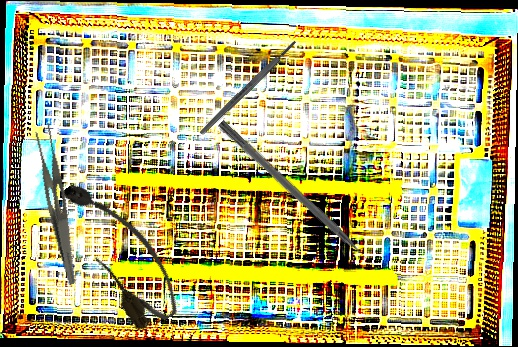Cannula: (52, 166, 190, 336)
Dressing Forceps: (25, 121, 95, 286)
Pusher: (215, 119, 382, 275)
Scalpel Handle: (197, 38, 299, 137)
